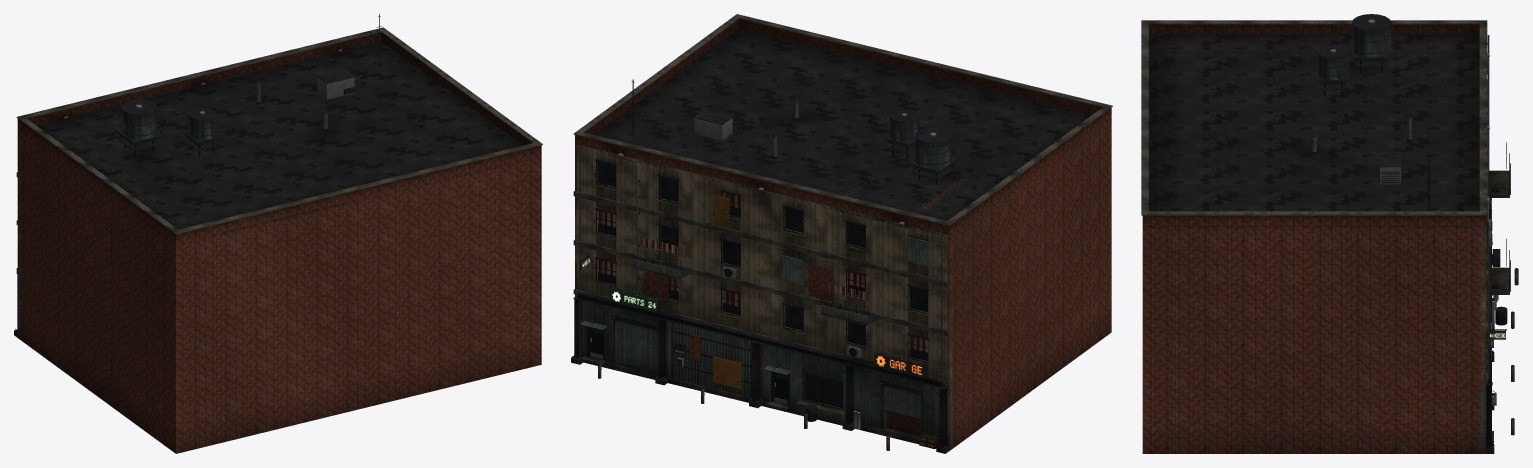
Rendered from habitation_workshop.glb.
3 renders of one model, left to right at view 1: azimuth 30°, elevation 25°; view 2: azimuth 150°, elevation 25°; view 3: azimuth 270°, elevation 25°, orthographic. The views are drawn at different scales.
Visible parts, largest first — view 1: habitation_workshop; view 2: habitation_workshop; view 3: habitation_workshop.
Part boxes in pixels (x1,y1,x2,y2): habitation_workshop: [14, 14, 542, 453]; habitation_workshop: [571, 14, 1112, 453]; habitation_workshop: [1141, 14, 1518, 453].
Bounding box in the file's own units: 24.08 × 16.4 × 19.76.
